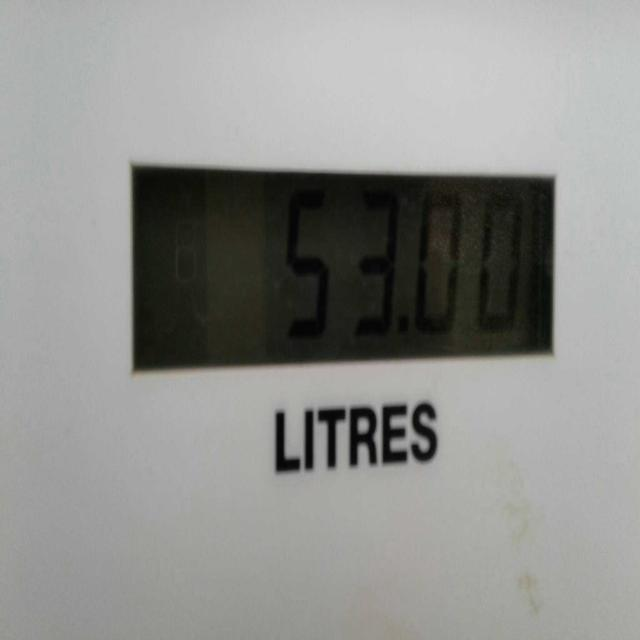.: (396, 313, 416, 354)
0: (407, 172, 467, 338), (471, 165, 527, 338)
3: (346, 182, 403, 346)
5: (275, 188, 333, 350)
